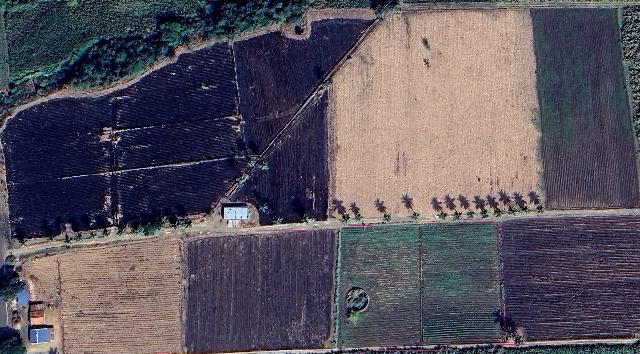DryFarms: (328, 9, 544, 219), (18, 236, 183, 354)
EmptyFarms: (0, 40, 251, 242), (233, 17, 378, 161), (184, 231, 334, 354), (502, 215, 640, 341), (227, 90, 327, 226)
Farms: (0, 0, 306, 119), (533, 9, 639, 213), (336, 224, 422, 349), (422, 219, 503, 345)
